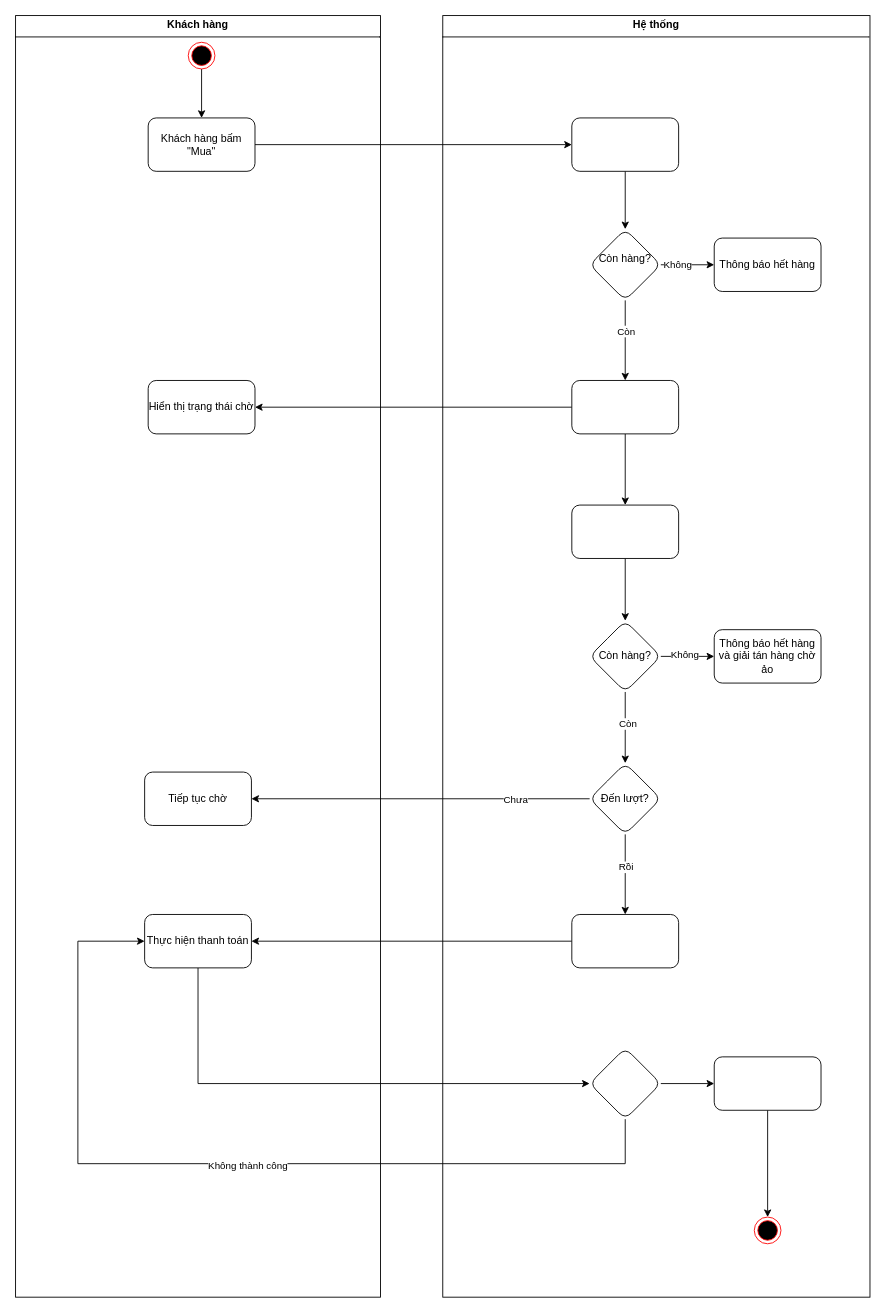
The diagram is 886 pixels wide and 1313 high, and some of its shapes have lost their labels. The shapes that lost their labels are listed below. From the top down, each one's centre as x and y in pixels, then its label:
At (625,144): "Kiểm tra tồn kho".
At (625,407): "Đưa khách hàng vào hàng đợi".
At (625,531): "Kiểm tra tồn".
At (625,941): "Cho phép thanh toán".
At (625,1083): "Thanh toán thành công?".
At (767,1083): "Xác nhận đơn hàng và trừ tồn kho".
